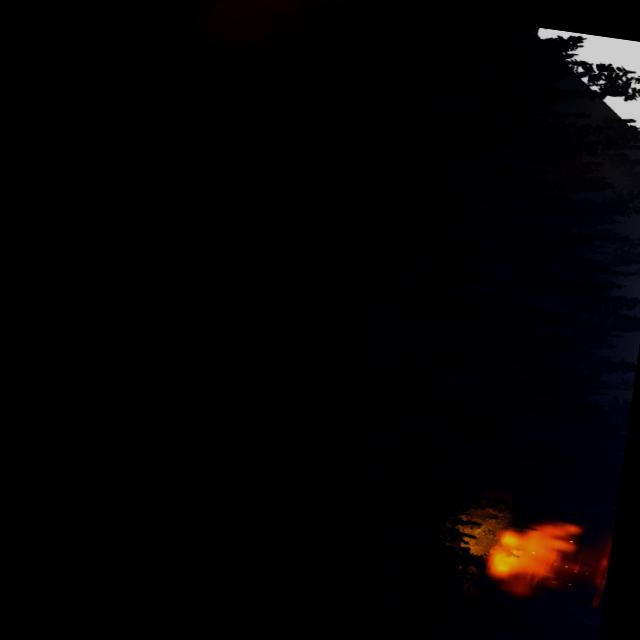fire: (478, 511, 592, 602)
smoke: (173, 0, 370, 76), (584, 527, 614, 613)
